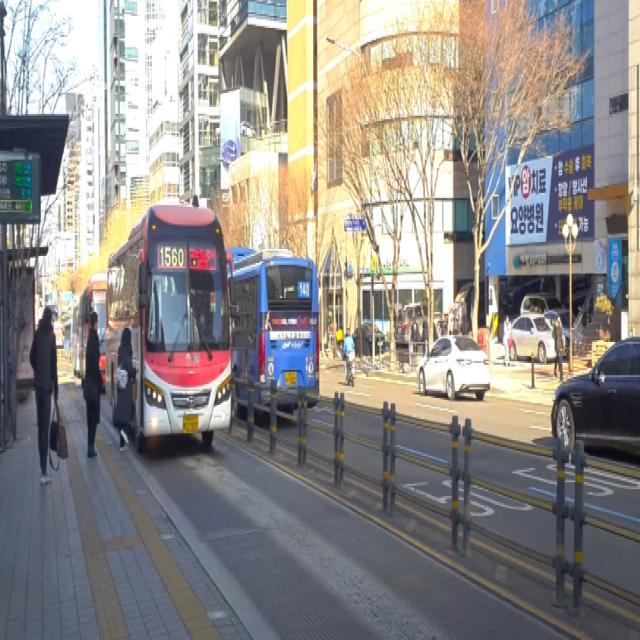bus-number: (159, 246, 185, 268)
